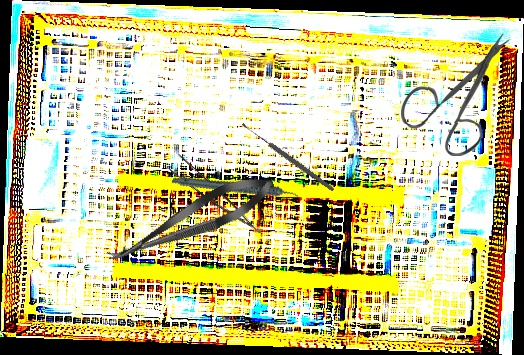Handpiece: (170, 151, 303, 228)
Iris Scissors: (399, 32, 514, 157)
Micro Scissor: (101, 165, 281, 276)
Surgical Spoon: (240, 121, 336, 193)
Tissue Forceps: (163, 148, 262, 248)
